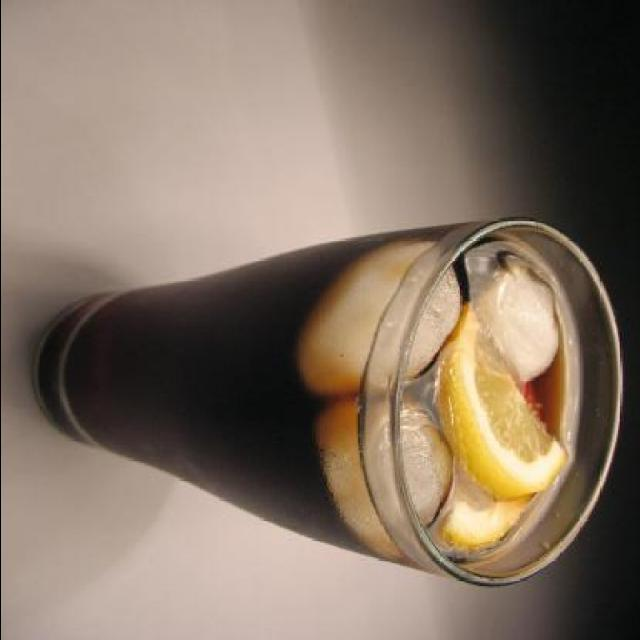Coke: (24, 214, 626, 588)
